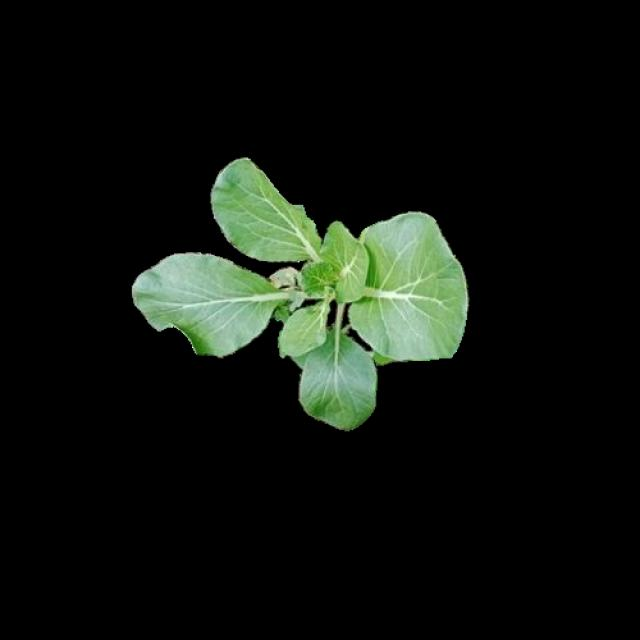healthy: (130, 156, 464, 428)
not-mature: (133, 159, 467, 430)
